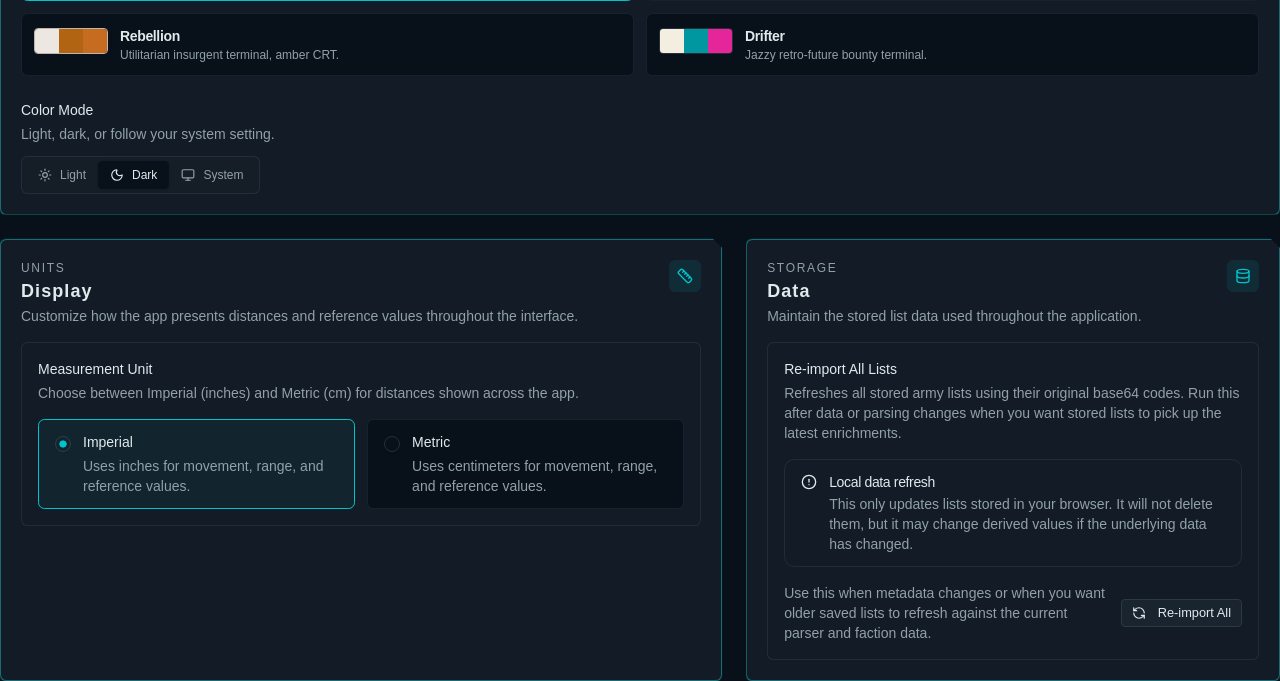
Scenario: SettingsPage › renders and allows re-importing all lists
(page scrolled)
Click the button "Re-import All" at point(1181, 613), box [1121,599,1242,627]
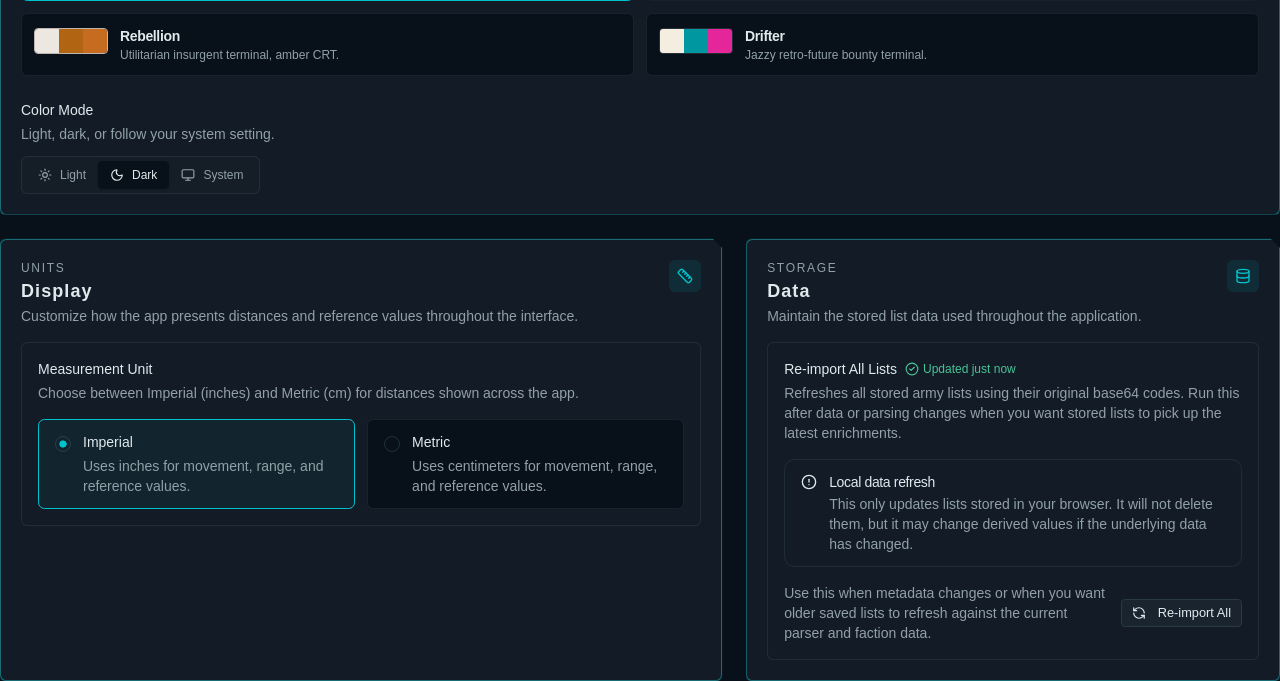
Now the text "Updated just now" is shown, box [905,361,1016,377]
